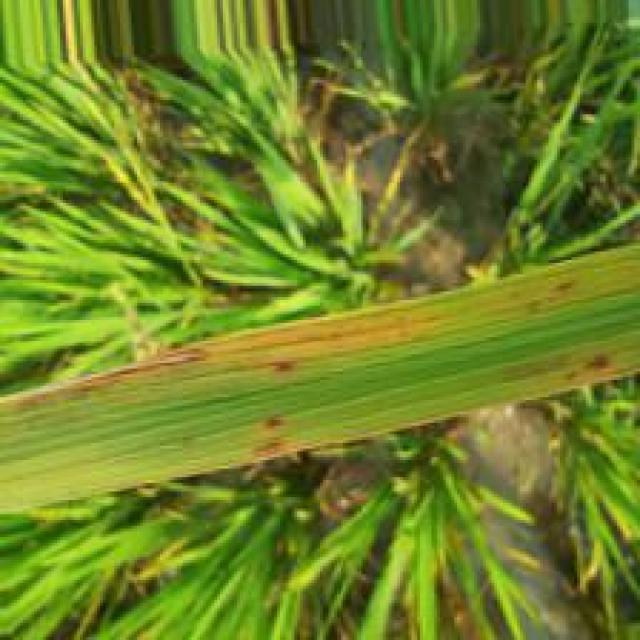Brown_Spot: (62, 343, 215, 402), (245, 437, 298, 464), (546, 272, 591, 301), (581, 346, 616, 380), (257, 410, 290, 437), (270, 354, 298, 378)
